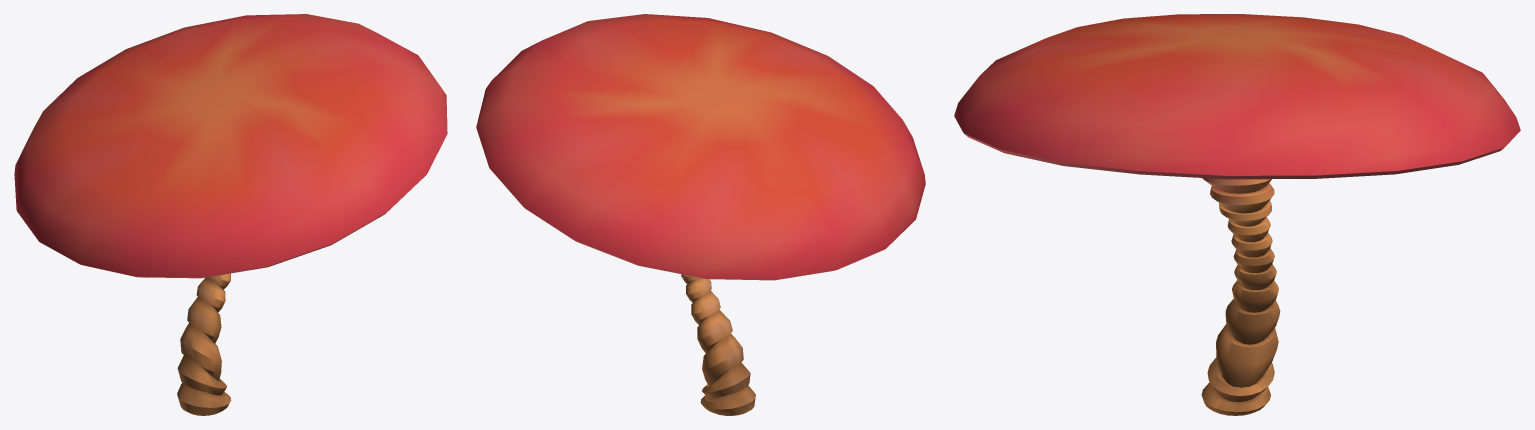
The model's file is Mushroom1.fbx.
The picture shows the model from 3 angles, left to right: view 1: azimuth 30°, elevation 25°; view 2: azimuth 150°, elevation 25°; view 3: azimuth 270°, elevation 25°; orthographic projection. The views are drawn at different scales.
Parts seen in each view (by area): view 1: Mushroom1; view 2: Mushroom1; view 3: Mushroom1.
Part boxes in pixels (x1=…): Mushroom1: x1=14, y1=14, x2=447, y2=415; Mushroom1: x1=476, y1=14, x2=925, y2=415; Mushroom1: x1=954, y1=14, x2=1520, y2=415.
Bounding box in the file's own units: 2042 × 1705 × 2181.
